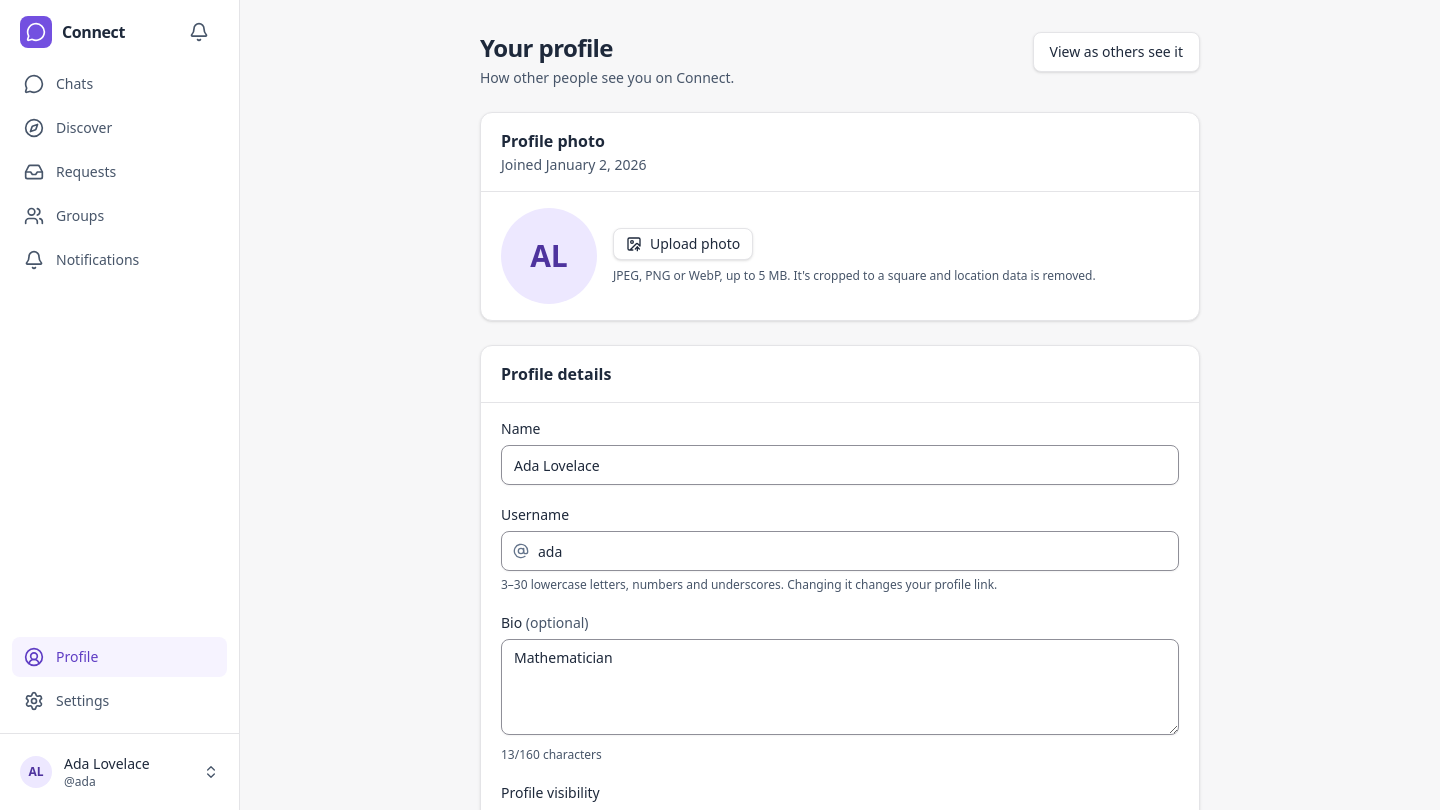
it: your profile › saves only the fields that changed
Replace the text in the text box labelled "Bio (optional)" with "Poet of science" at (840, 687), box [501,639,1179,735]
(page scrolled)
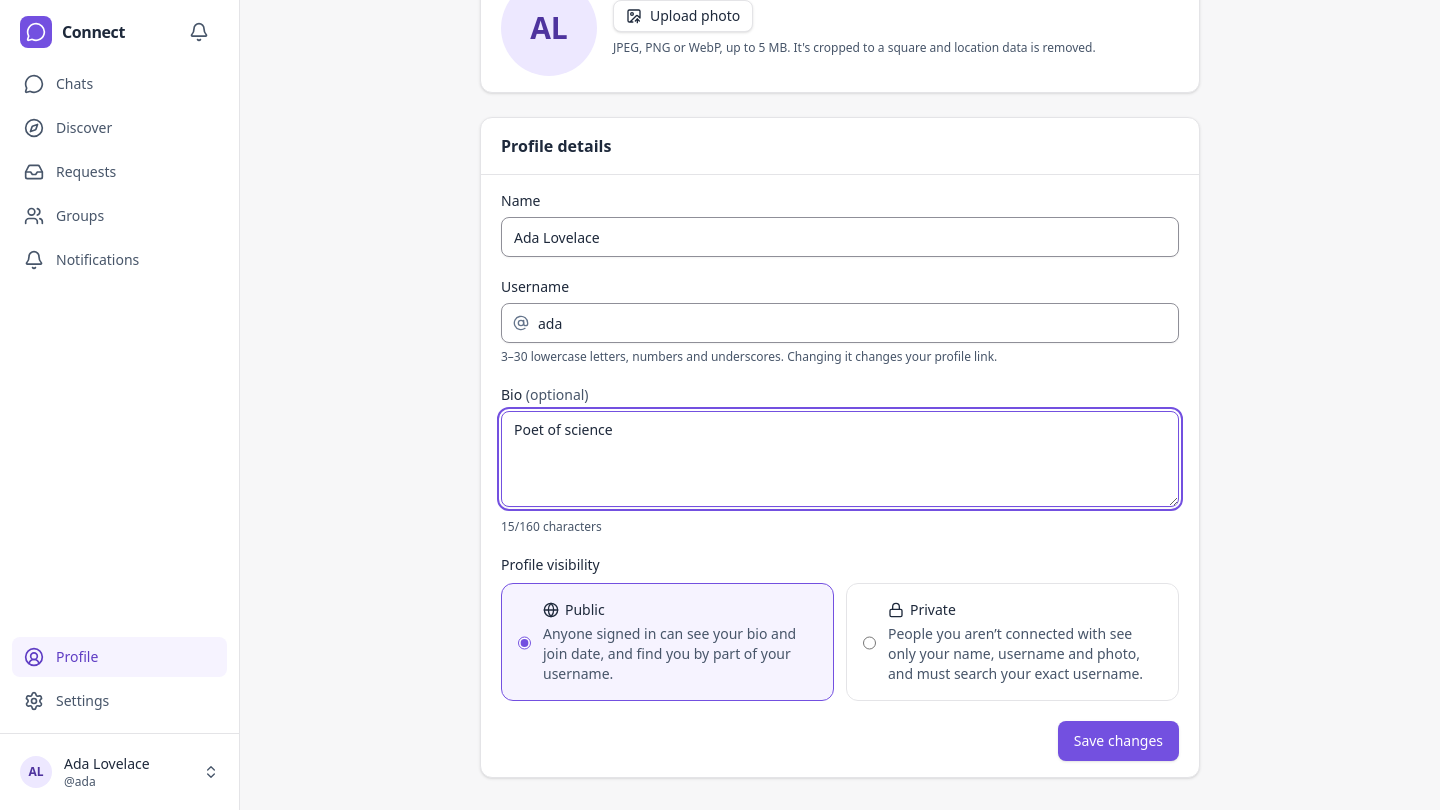
Click the radio button labelled "Private" at (870, 643), box [863,602,876,684]
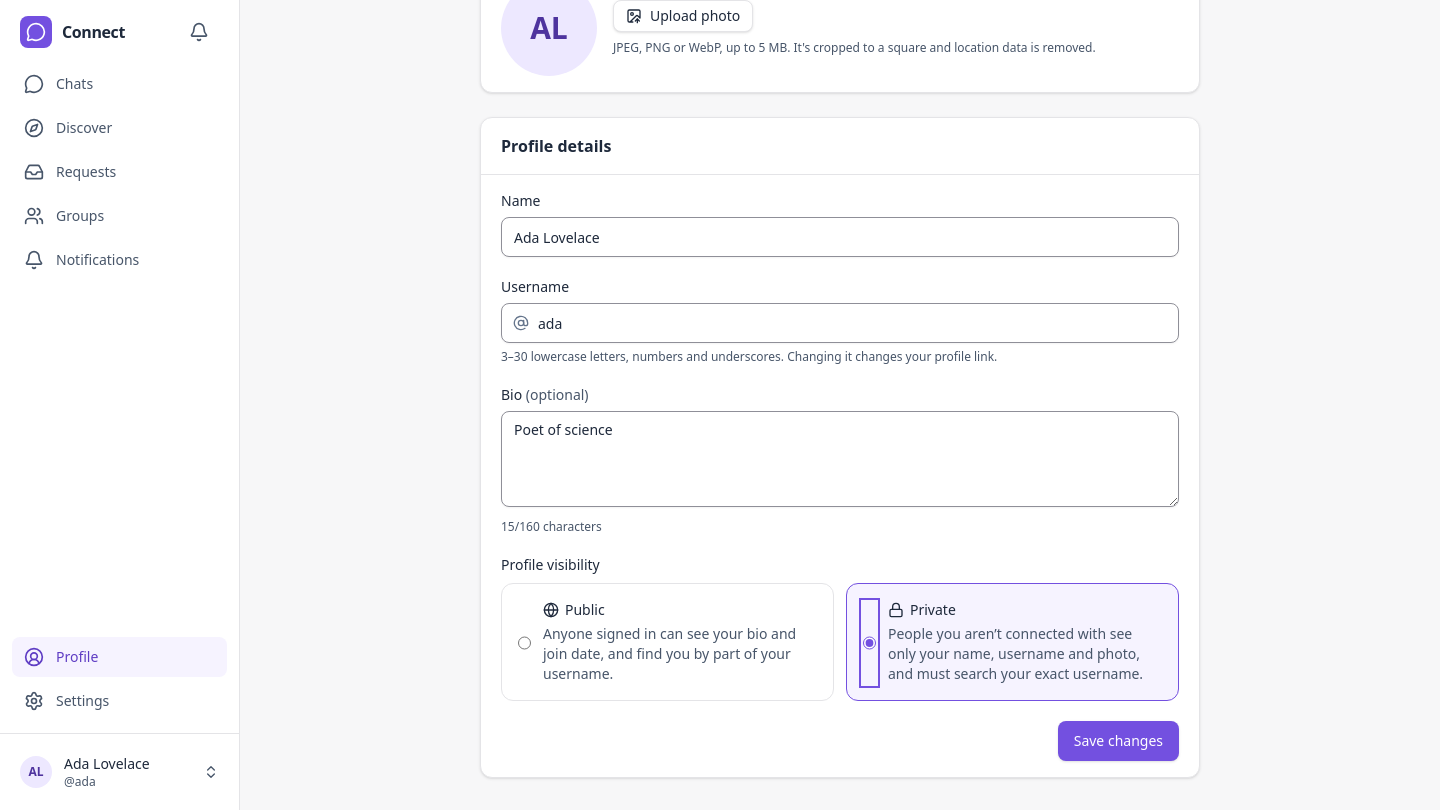
Click the button "Save changes" at (1118, 741), box [1058,721,1179,761]
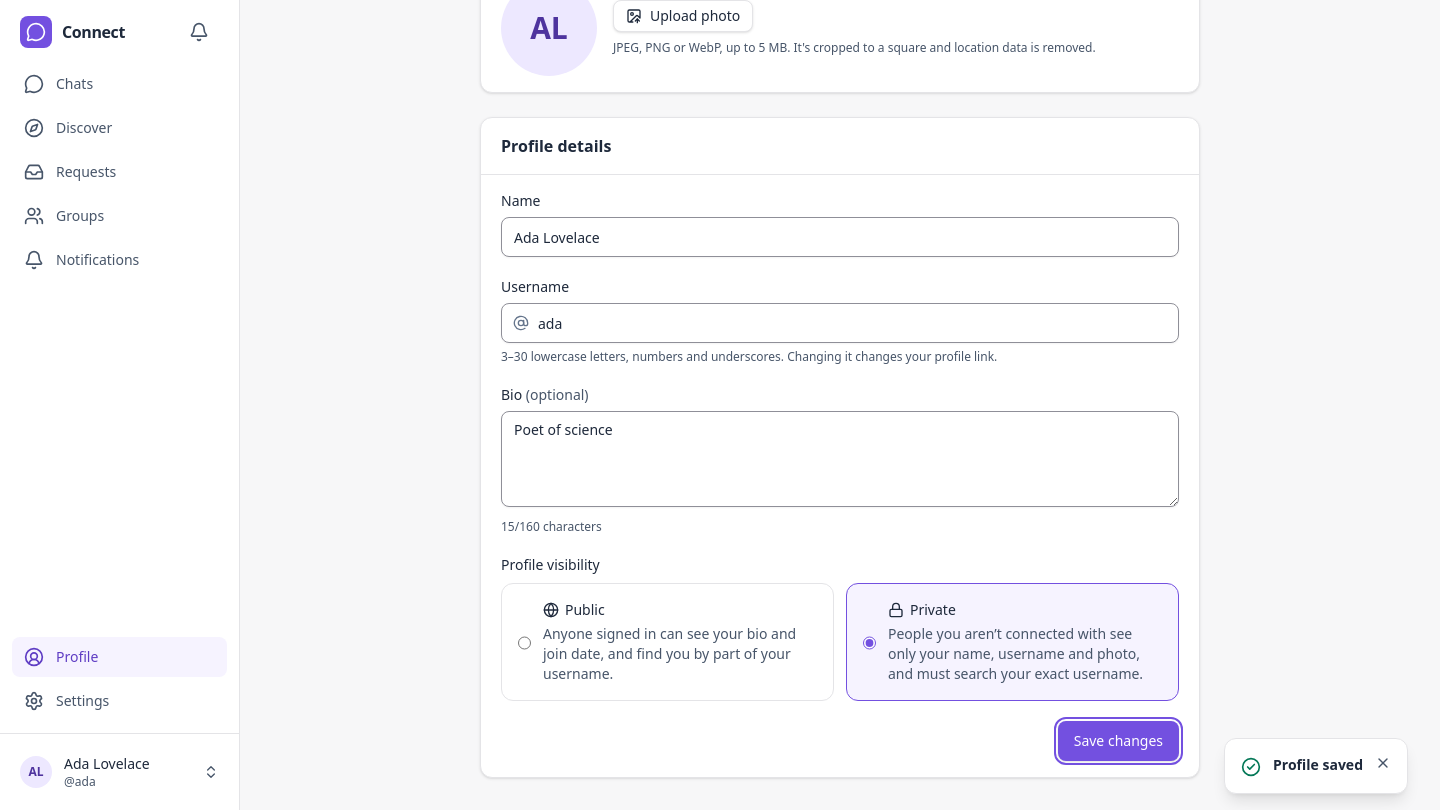
Now the text "Profile saved" is shown, box [1273,755,1363,775]
